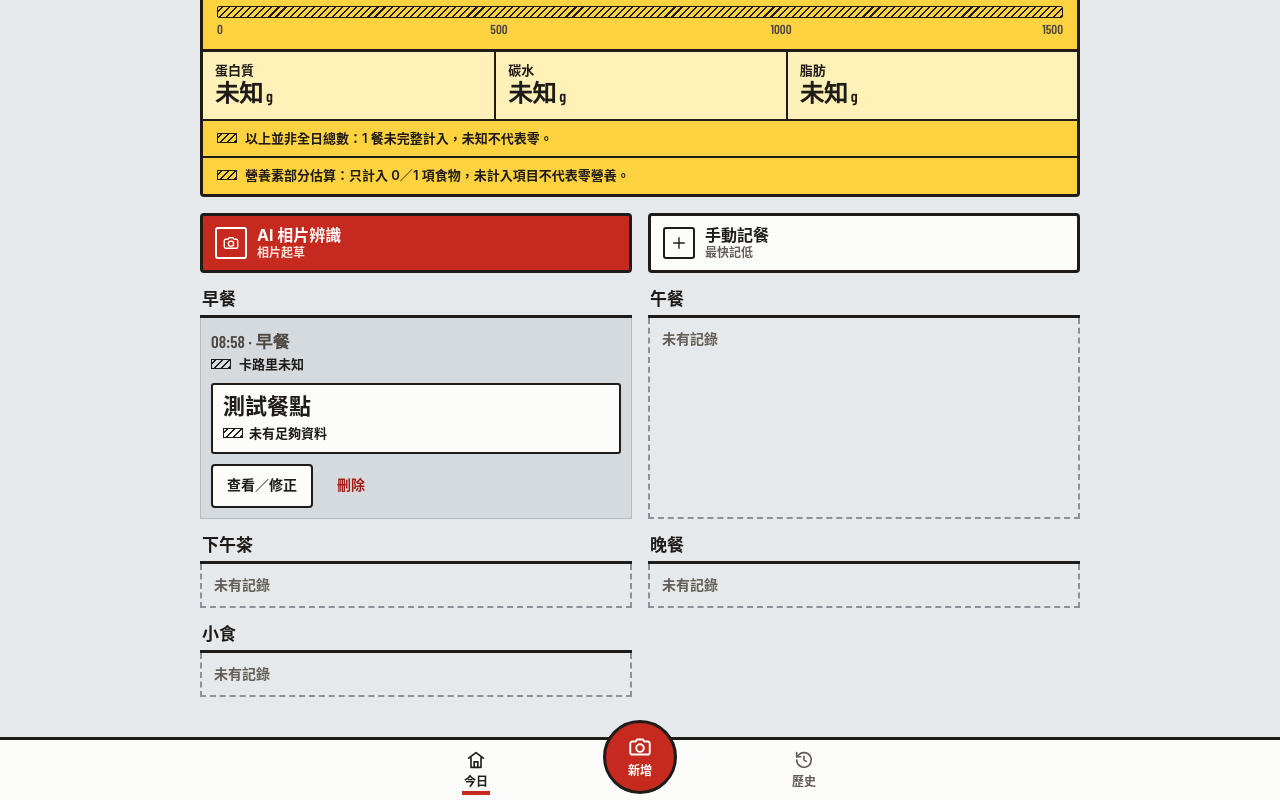
Scenario: keeps the local notice when durable jobs remain, including error conflict
(page scrolled)
Click the button "刪除" at (351, 486), box [321,464,381,508]
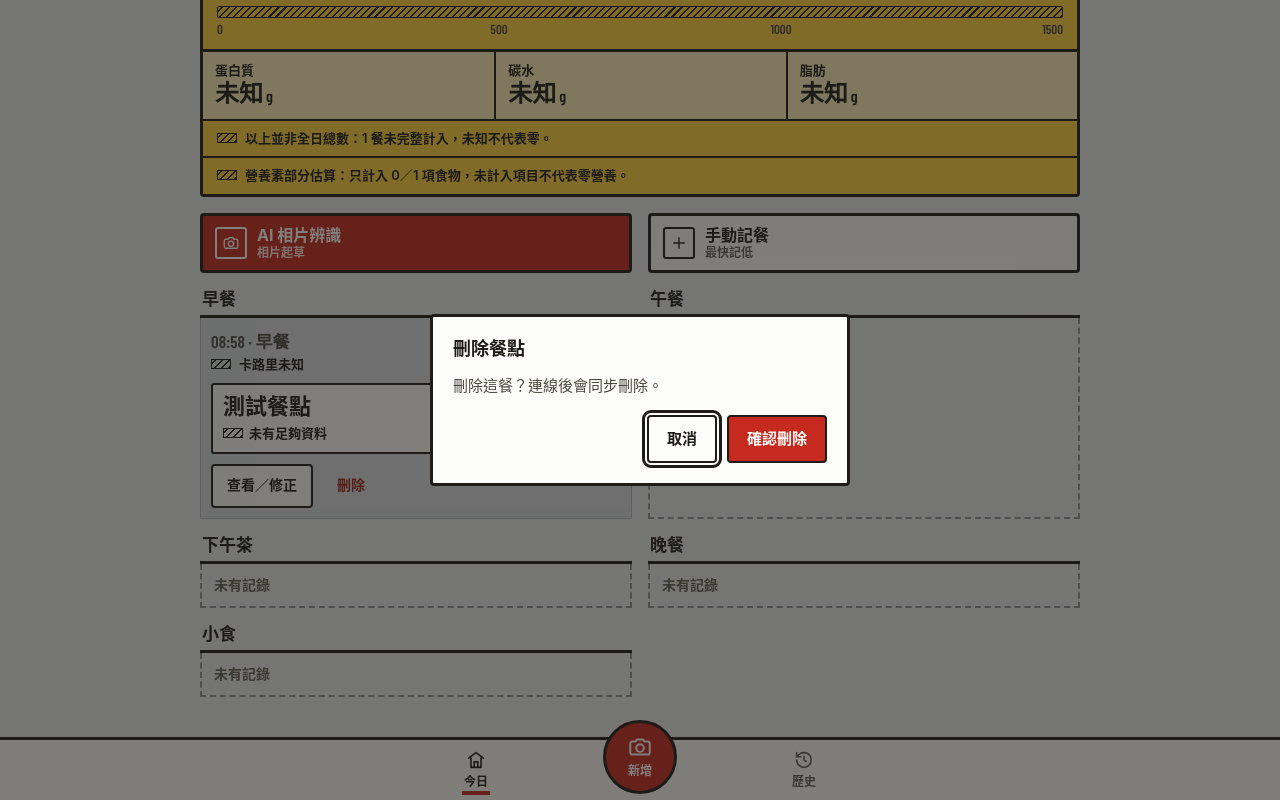
Click the button "確認刪除" at (777, 439), box [727,415,827,463]
(page scrolled)
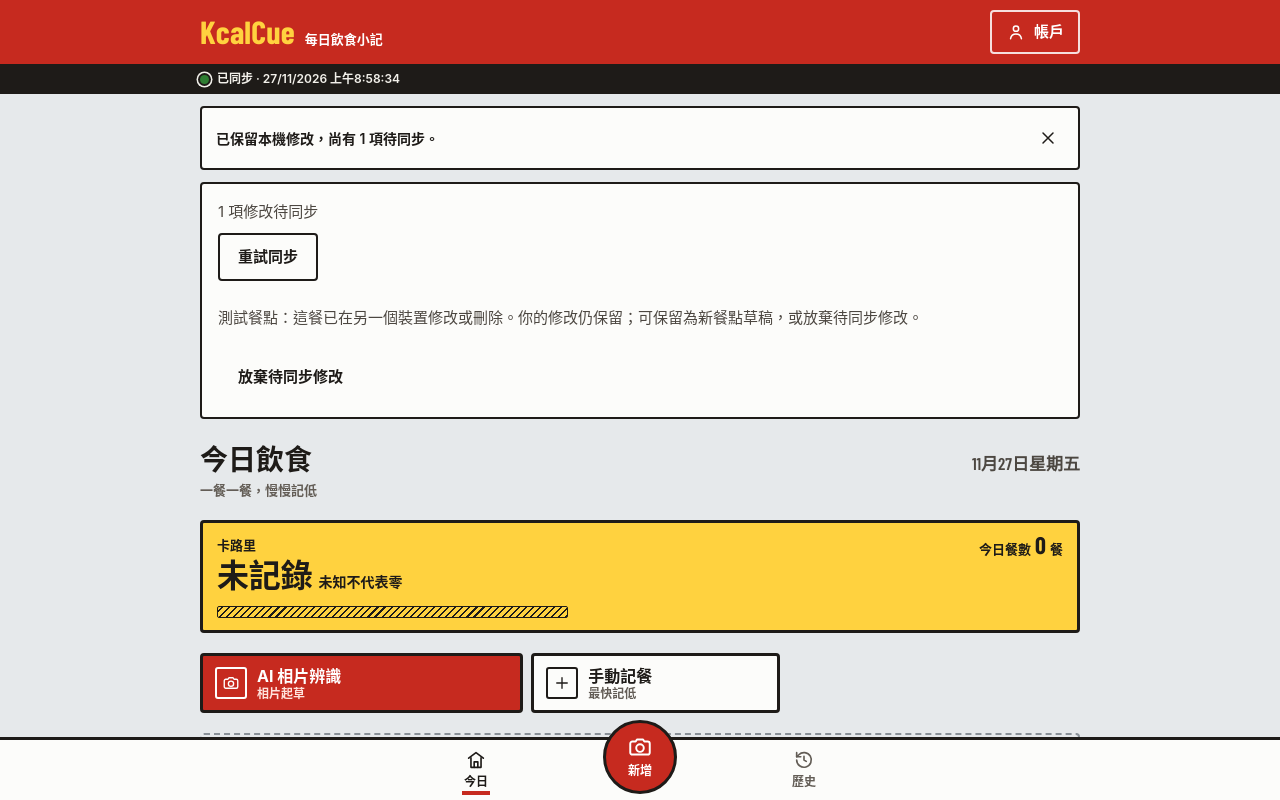
Check: the text "已保留本機修改，尚有 1 項待同步。" is shown, box [216,130,439,146]
Check: the text "1 項修改待同步" is shown, box [218,200,318,223]
